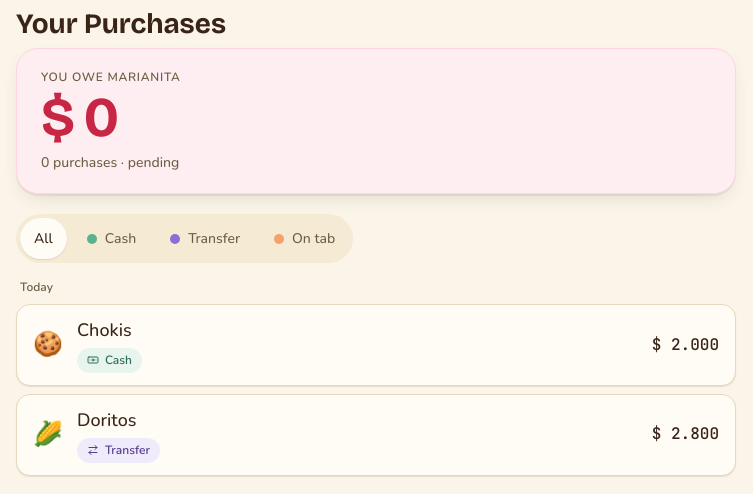
Test: MyPurchases — filtros › el filtro "Cash" muestra solo compras en efectivo
Click the button "Cash".
click(111, 239)  # box x1=73 y1=218 x2=150 y2=259
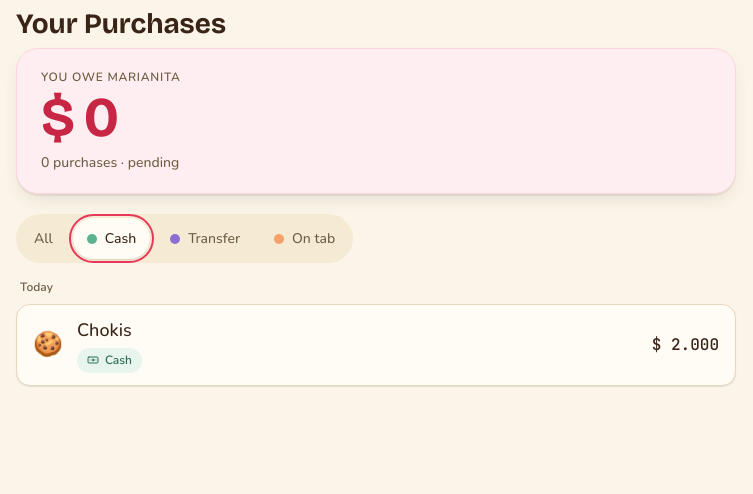
Expected: the text "Chokis" is shown, x1=77 y1=317 x2=132 y2=344
Result: the text "Doritos" is gone
